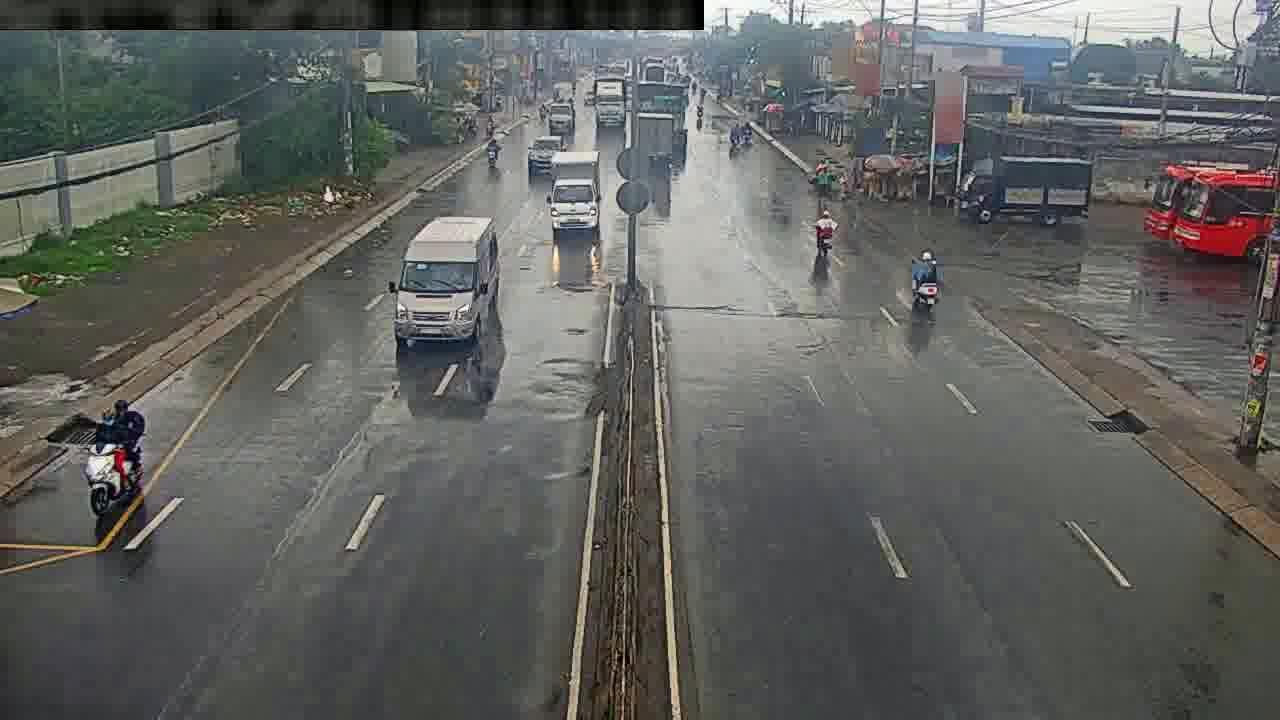car: (526, 133, 561, 169)
container: (545, 152, 603, 241), (632, 113, 677, 163), (593, 80, 629, 125)
motorbike: (85, 395, 153, 522), (914, 242, 941, 306), (814, 205, 837, 262), (483, 135, 501, 166), (726, 118, 741, 149)
passenger_car: (393, 215, 500, 342)
